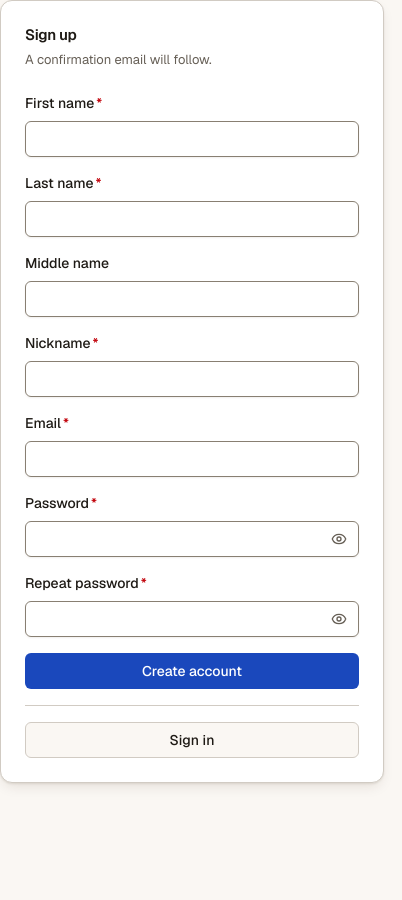
Test: the registration form asks for a nickname › reports only the rule the typed nickname broke
Type "ab" into the field labelled "Nickname*" at coordinates (192, 379), box [25, 361, 359, 397]
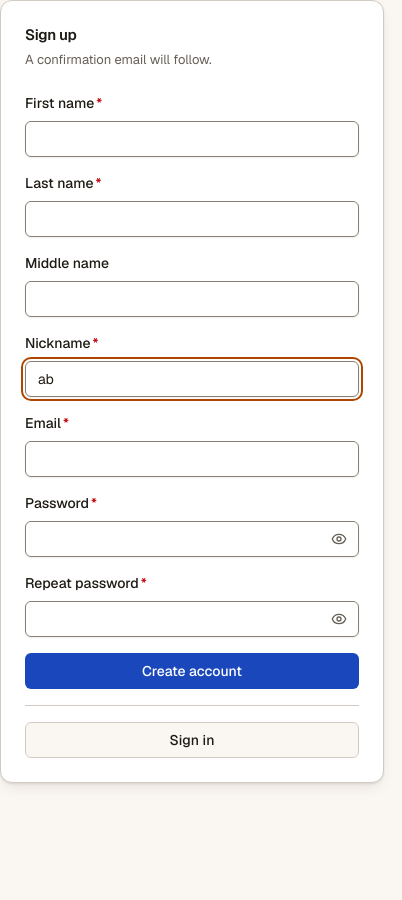
Click the button "Create account" at coordinates (192, 671), box [25, 653, 359, 689]
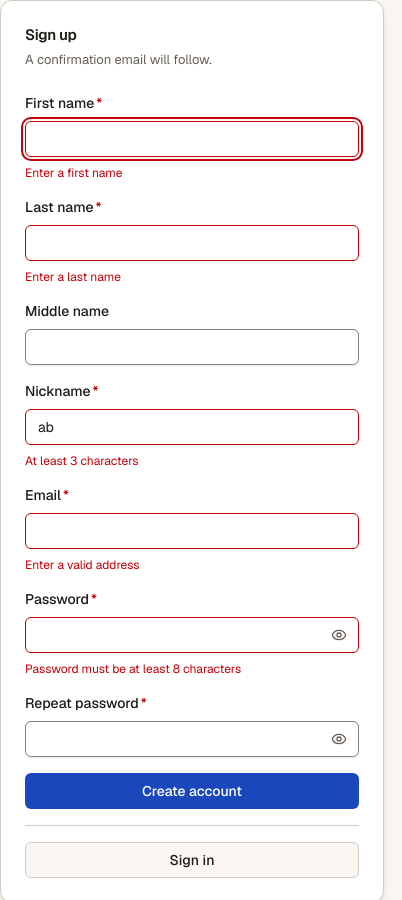
Expected: the message "At least 3 characters" is shown, [25, 453, 138, 469]
